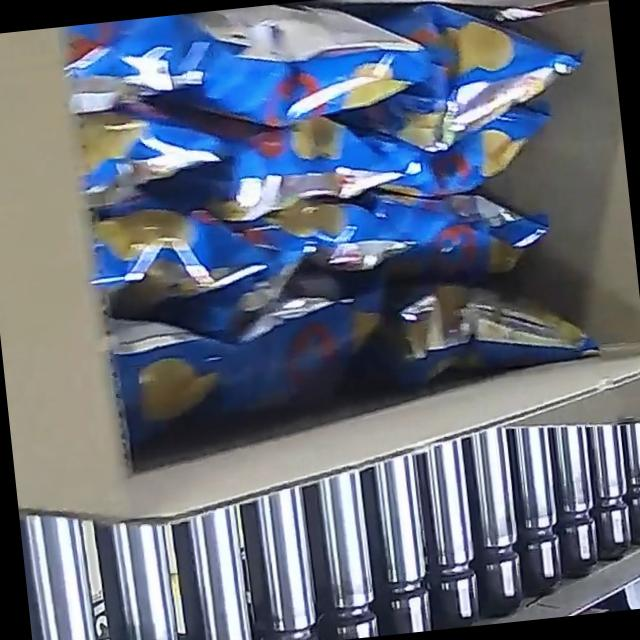paprika: (60, 0, 624, 455)
